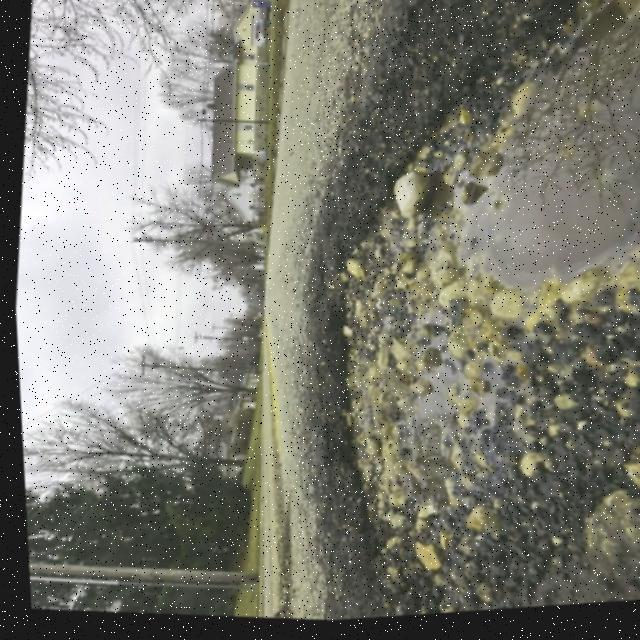pothole: (248, 0, 640, 627)
